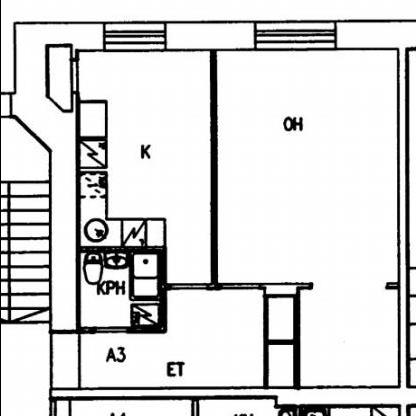window: (245, 14, 339, 58), (95, 17, 169, 57)
